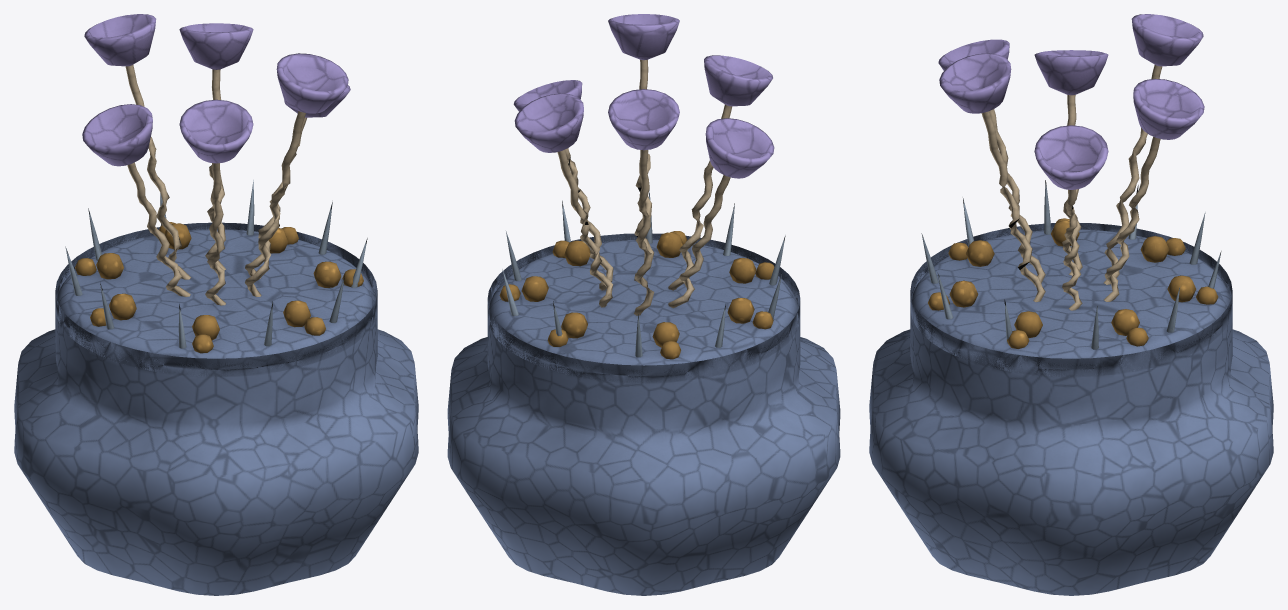
Rendered from landmark_b1_bell_colony.glb.
3 renders of one model, left to right at view 1: azimuth 30°, elevation 25°; view 2: azimuth 150°, elevation 25°; view 3: azimuth 270°, elevation 25°, orthographic. The views are drawn at different scales.
Visible parts, largest first — view 1: LandmarkB1BellColony, Growth_Beads, Growth_Needles; view 2: LandmarkB1BellColony, Growth_Beads, Growth_Needles; view 3: LandmarkB1BellColony, Growth_Beads, Growth_Needles.
Part boxes in pixels (<box>): LandmarkB1BellColony: <box>14,14,418,595</box>; Growth_Beads: <box>75,222,363,353</box>; Growth_Needles: <box>65,180,367,348</box>; LandmarkB1BellColony: <box>447,14,840,595</box>; Growth_Beads: <box>499,231,774,359</box>; Growth_Needles: <box>502,190,785,357</box>; LandmarkB1BellColony: <box>869,14,1273,595</box>; Growth_Beads: <box>928,218,1218,348</box>; Growth_Needles: <box>921,180,1221,349</box>.
Bounding box in the file's own units: 5.41 × 6.91 × 5.02.
5 materials, 5 textured.
